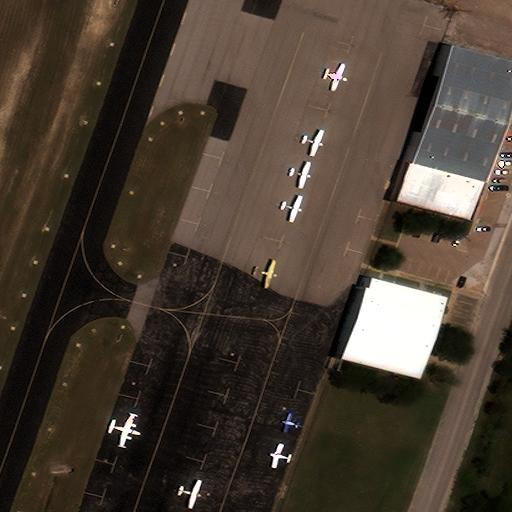Small Civil Transport: (108, 416, 140, 446), (176, 480, 201, 508), (253, 261, 277, 288), (288, 162, 311, 188), (301, 131, 324, 156), (280, 196, 302, 222), (324, 64, 346, 90), (270, 443, 291, 467), (282, 412, 301, 431)
